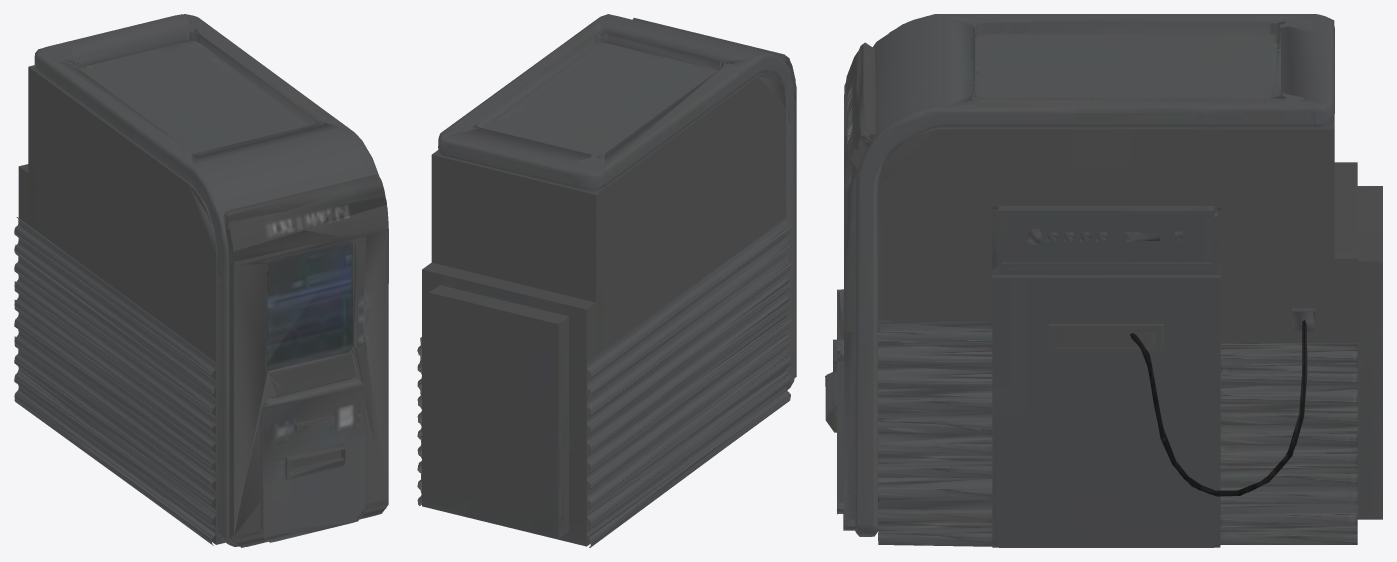
File: sm_cpticketmachine01.glb
The picture shows the model from 3 angles, left to right: view 1: azimuth 30°, elevation 25°; view 2: azimuth 150°, elevation 25°; view 3: azimuth 270°, elevation 25°; orthographic projection. The views are drawn at different scales.
Visible parts, largest first — view 1: sm_cpticketmachine01_00; view 2: sm_cpticketmachine01_00; view 3: sm_cpticketmachine01_00.
Boxes of the visible parts, box(x1,y1,x2,y2) form: sm_cpticketmachine01_00: box(14, 14, 388, 547); sm_cpticketmachine01_00: box(417, 14, 796, 547); sm_cpticketmachine01_00: box(825, 14, 1382, 547).
Size of the model in its own units: 1.19 by 2.11 by 2.44.
1 material, 1 textured.
